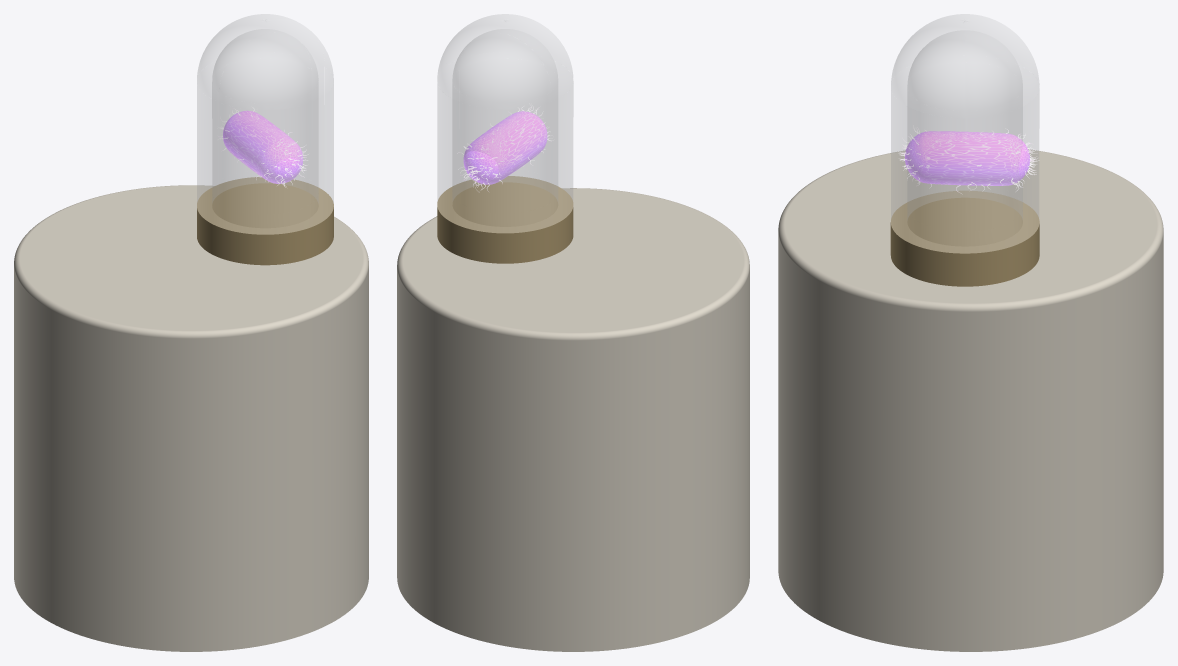
File: bacteria_small_05.glb
The picture shows the model from 3 angles, left to right: view 1: azimuth 30°, elevation 25°; view 2: azimuth 150°, elevation 25°; view 3: azimuth 270°, elevation 25°; orthographic projection. The views are drawn at different scales.
Parts seen in each view (by area): view 1: PEANA_Vitrina_2, VITRINA_Campana_2, VITRINA_Base_2, Bacteria_Capsula_Mesh_16; view 2: PEANA_Vitrina_2, VITRINA_Campana_2, VITRINA_Base_2, Bacteria_Capsula_Mesh_16; view 3: PEANA_Vitrina_2, VITRINA_Campana_2, VITRINA_Base_2, Bacteria_Capsula_Mesh_16, Bacteria_Pili_Mesh_16.
Boxes of the visible parts, x1,y1,x2,y2 form: PEANA_Vitrina_2: [14, 185, 368, 651]; VITRINA_Campana_2: [197, 14, 333, 234]; VITRINA_Base_2: [197, 177, 333, 265]; Bacteria_Capsula_Mesh_16: [223, 110, 303, 183]; PEANA_Vitrina_2: [397, 188, 749, 651]; VITRINA_Campana_2: [437, 14, 573, 232]; VITRINA_Base_2: [437, 176, 573, 263]; Bacteria_Capsula_Mesh_16: [463, 111, 547, 184]; PEANA_Vitrina_2: [778, 149, 1163, 651]; VITRINA_Campana_2: [891, 14, 1039, 253]; VITRINA_Base_2: [890, 190, 1039, 286]; Bacteria_Capsula_Mesh_16: [905, 131, 1029, 185]; Bacteria_Pili_Mesh_16: [898, 125, 1039, 193].
Bounding box in the file's own units: 0.5949 × 1 × 0.5949.
Materials: 5 (1 with a texture image).
